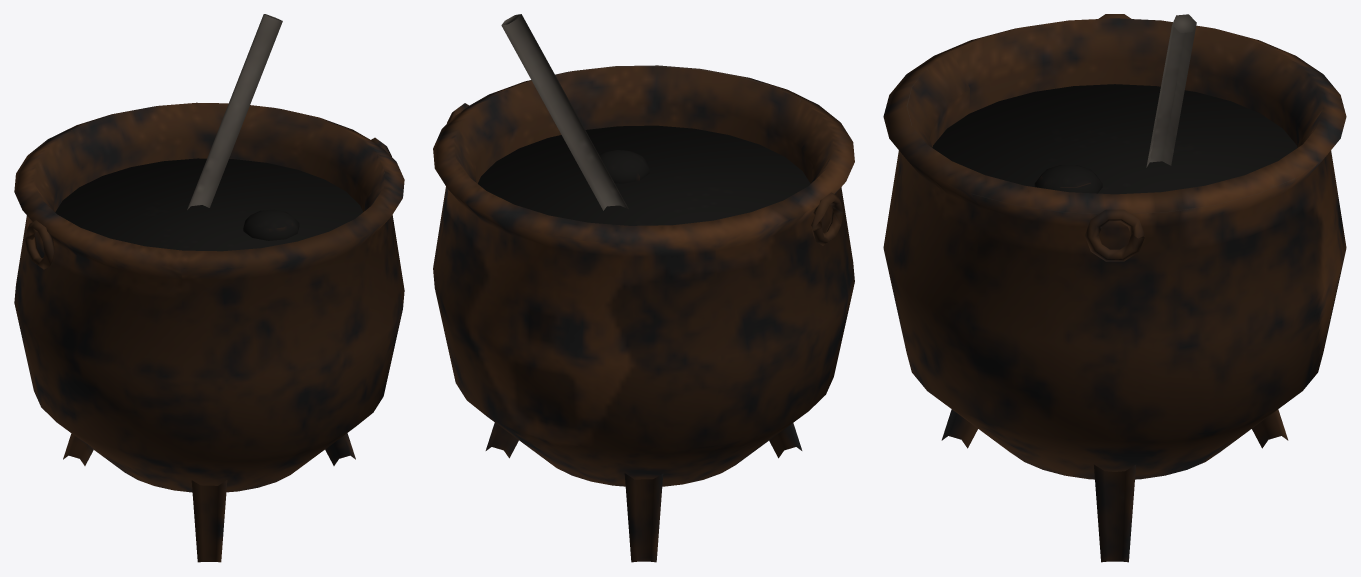
File: tar_cauldron.obj
The picture shows the model from 3 angles, left to right: view 1: azimuth 30°, elevation 25°; view 2: azimuth 150°, elevation 25°; view 3: azimuth 270°, elevation 25°; orthographic projection. The views are drawn at different scales.
Parts seen in each view (by area): view 1: part0, part1, part2; view 2: part0, part1, part2; view 3: part0, part1, part2.
Boxes of the visible parts, bbox=[...] form: part0: bbox=[14, 102, 404, 562]; part1: bbox=[55, 158, 362, 251]; part2: bbox=[187, 14, 282, 209]; part0: bbox=[433, 65, 854, 562]; part1: bbox=[478, 125, 810, 225]; part2: bbox=[501, 14, 628, 210]; part0: bbox=[883, 14, 1346, 562]; part1: bbox=[932, 84, 1297, 194]; part2: bbox=[1146, 14, 1196, 167].
Bounding box in the file's own units: 0.824 × 0.9971 × 0.8.
